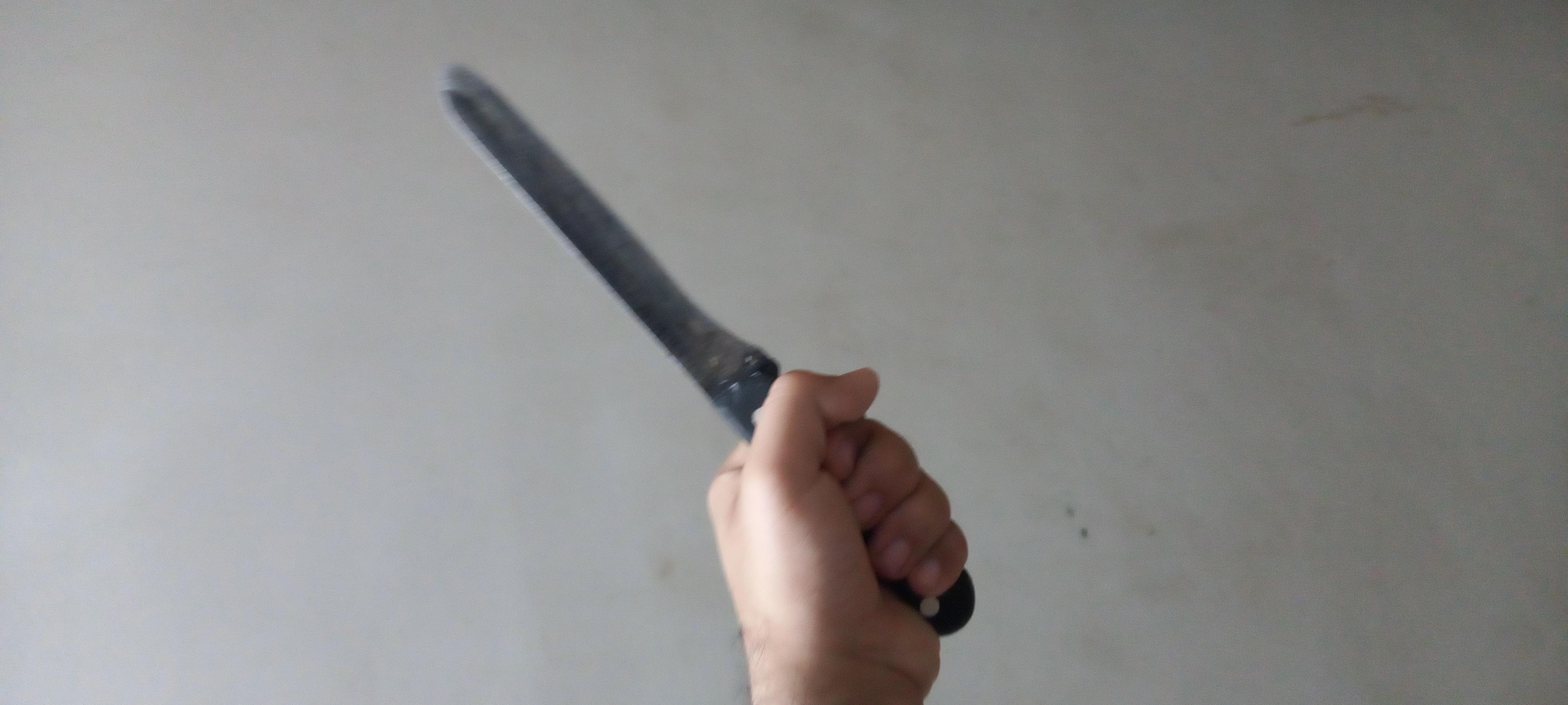knives: (111, 193, 1445, 440)
